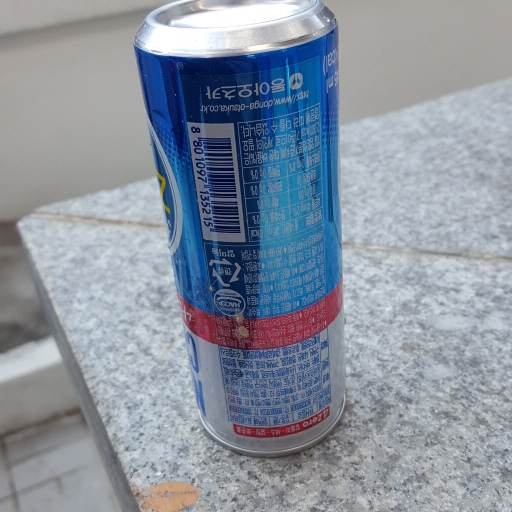Metal_0: (132, 1, 352, 459)
